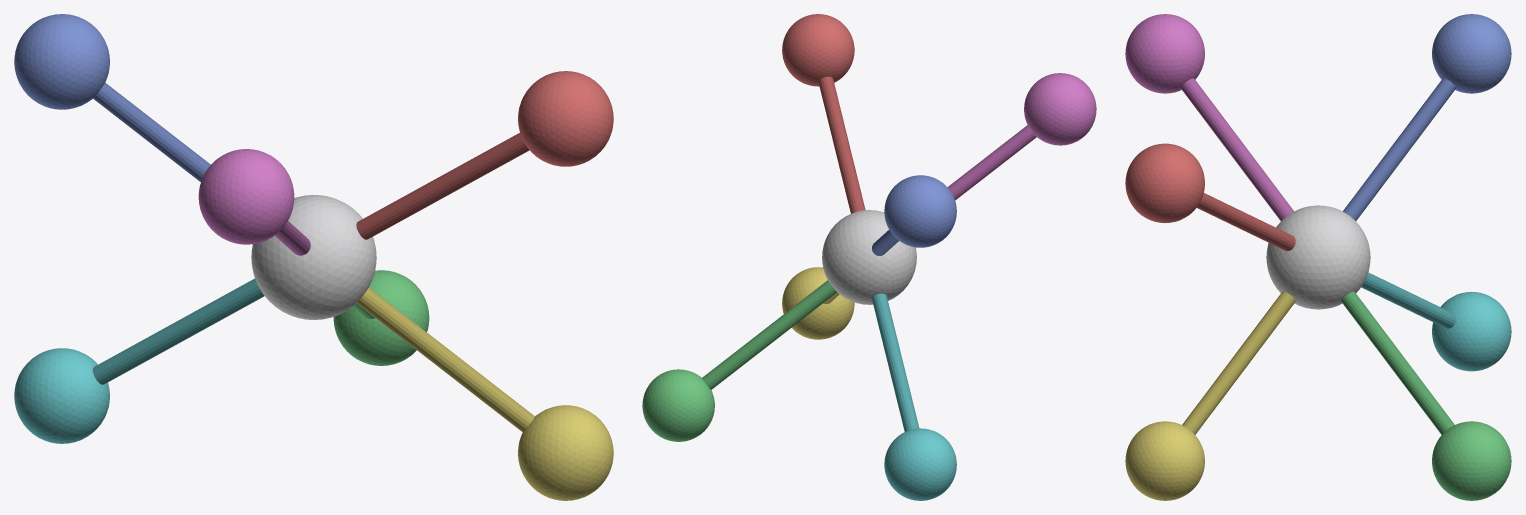
The model's file is lattice-unit-cell.glb.
3 views of the same model, side by side, from view 1: azimuth 30°, elevation 25°; view 2: azimuth 150°, elevation 25°; view 3: azimuth 270°, elevation 25° (orthographic). The views are drawn at different scales.
Parts seen in each view (by area): view 1: world; view 2: world; view 3: world.
Boxes of the visible parts, x1,y1,x2,y2 form: world: [14, 14, 613, 500]; world: [642, 14, 1096, 500]; world: [1125, 14, 1511, 500].
Bounding box in the file's own units: 2.52 × 2.52 × 2.52.
